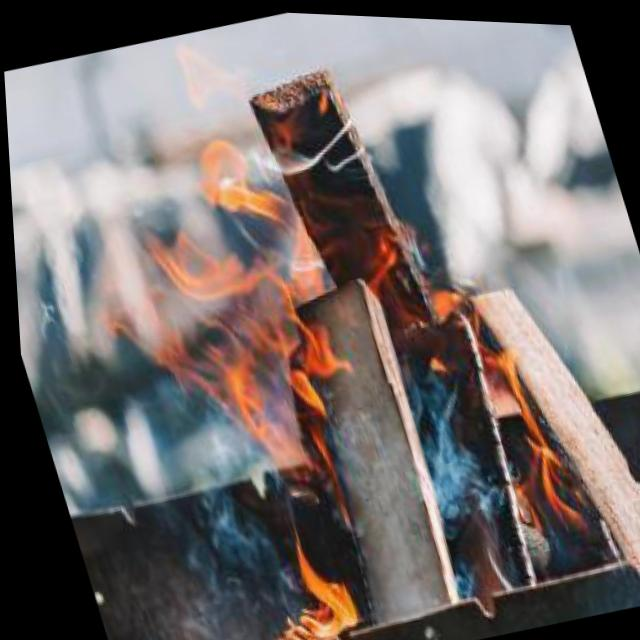Fire: (66, 67, 610, 640)
